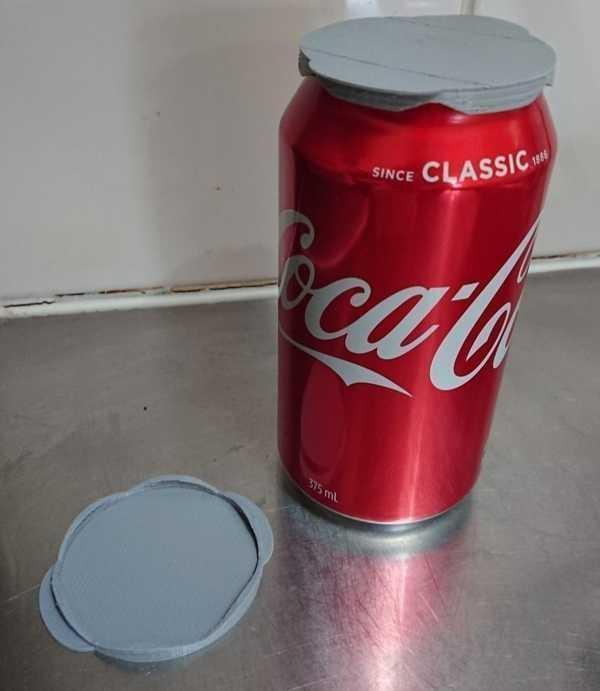tin can: (270, 13, 558, 534)
